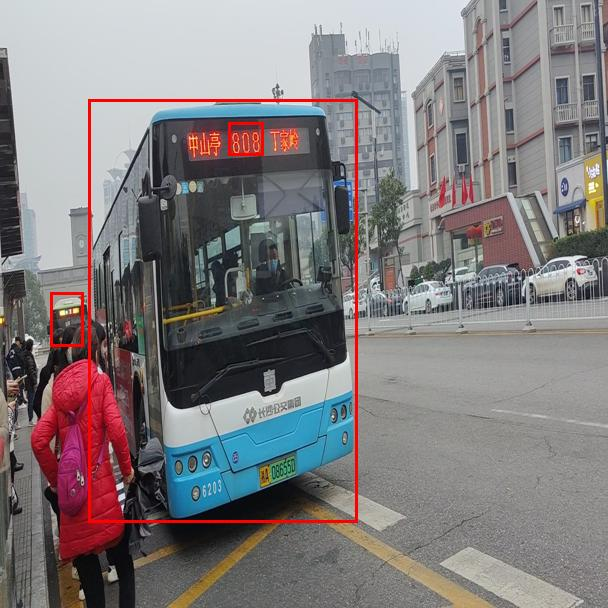bus: (88, 99, 357, 522), (50, 292, 83, 346)
screen: (228, 122, 263, 155)
